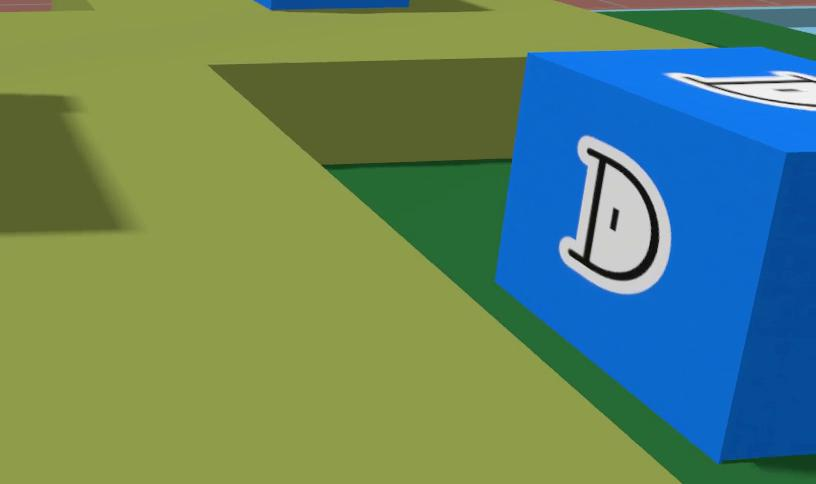KFS_REAL: (496, 47, 815, 458), (559, 136, 671, 293), (665, 70, 815, 110), (256, 0, 409, 9)
